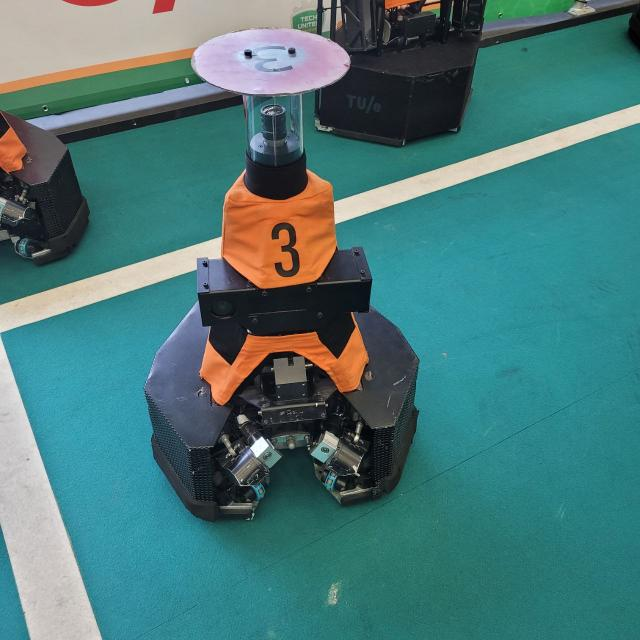Robots: (174, 21, 419, 548), (0, 94, 100, 272)
